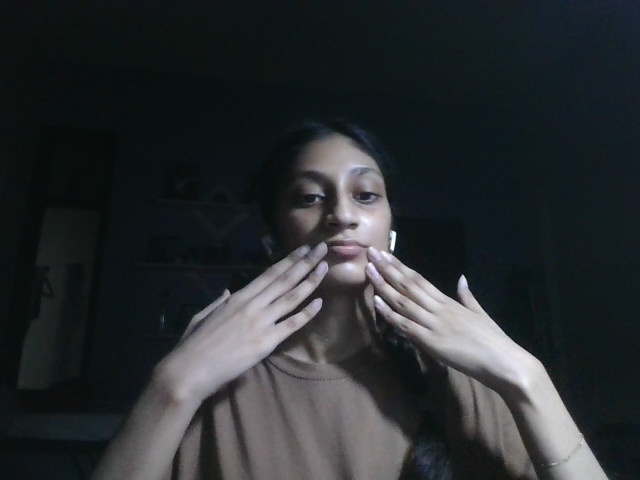thank you: (157, 236, 547, 406)
